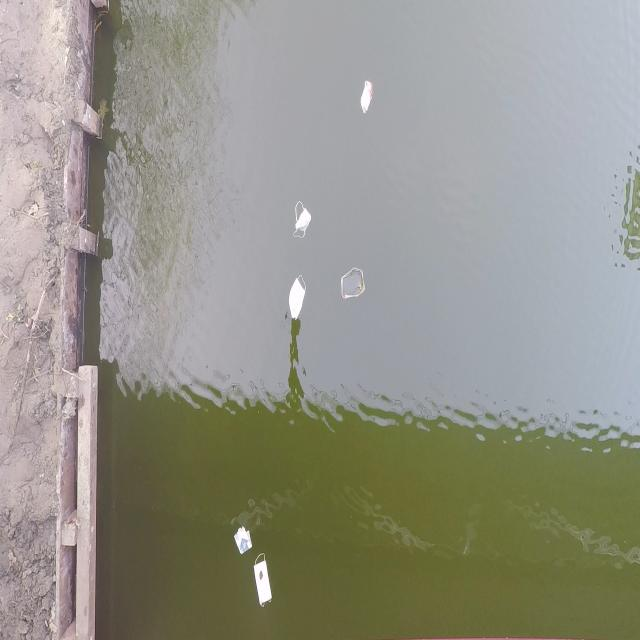Autre plastique: (336, 260, 369, 307)
Non plastique: (250, 550, 280, 617), (286, 187, 315, 243), (284, 271, 311, 326), (354, 74, 376, 118)
